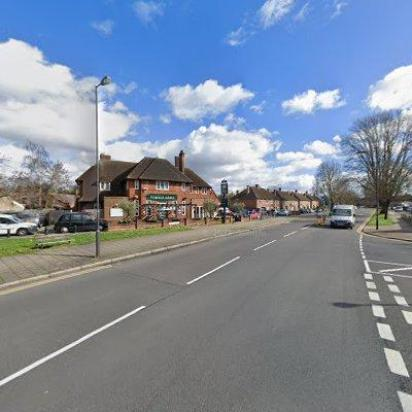moving-light-truck: (330, 204, 356, 230)
stationary-car-offstreet: (394, 206, 404, 212)
stationary-car-onstreet: (53, 210, 107, 232), (0, 212, 38, 236), (273, 210, 289, 216), (249, 211, 261, 219)
